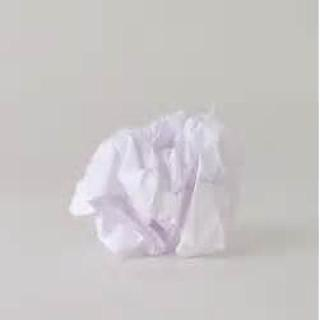Anorganik: (66, 104, 243, 264)
